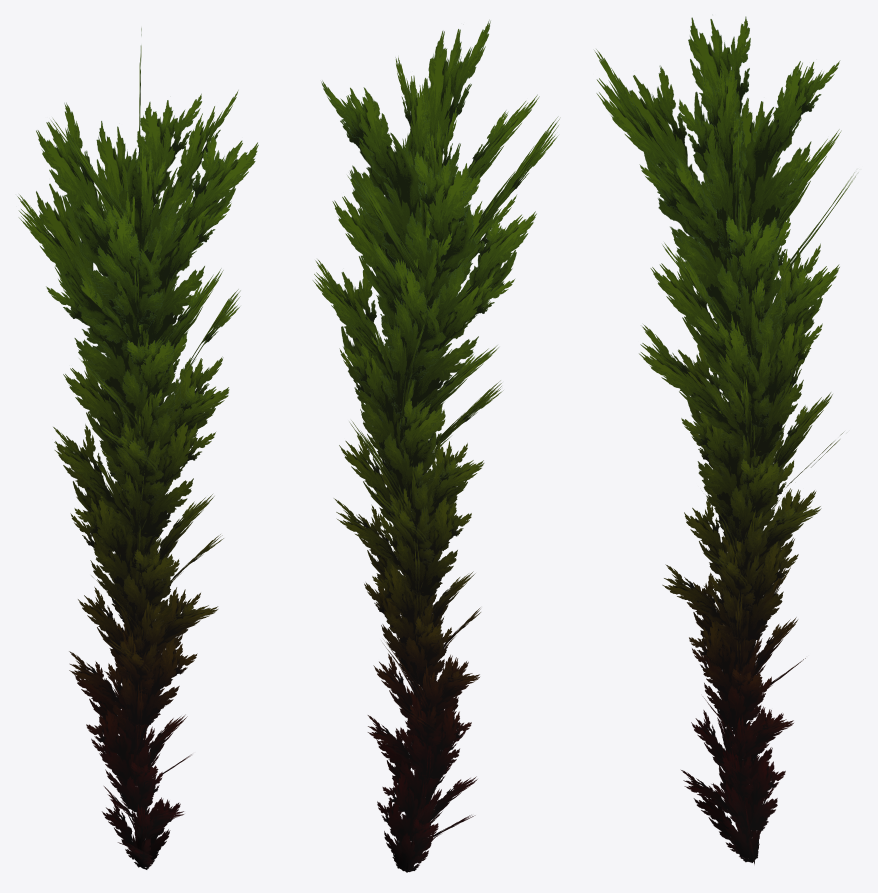
Rendered from SeaWeed02_LOD0_newsmall.glb.
3 views of the same model, side by side, from view 1: azimuth 30°, elevation 25°; view 2: azimuth 150°, elevation 25°; view 3: azimuth 270°, elevation 25° (orthographic). The views are drawn at different scales.
Visible parts, largest first — view 1: SeaWeed02_high; view 2: SeaWeed02_high; view 3: SeaWeed02_high.
Boxes of the visible parts, x1,y1,x2,y2 form: SeaWeed02_high: [17, 28, 258, 869]; SeaWeed02_high: [313, 19, 559, 872]; SeaWeed02_high: [594, 16, 857, 864].
Bounding box in the file's own units: 0.2747 × 0.8998 × 0.2652.
Materials: 1 (1 with a texture image).
